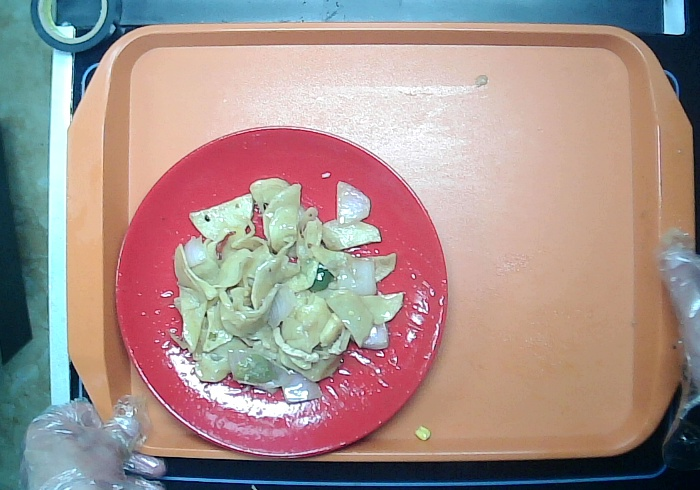HZYJPL-Hong_Se_Yuan_Pan: (112, 125, 452, 458)
